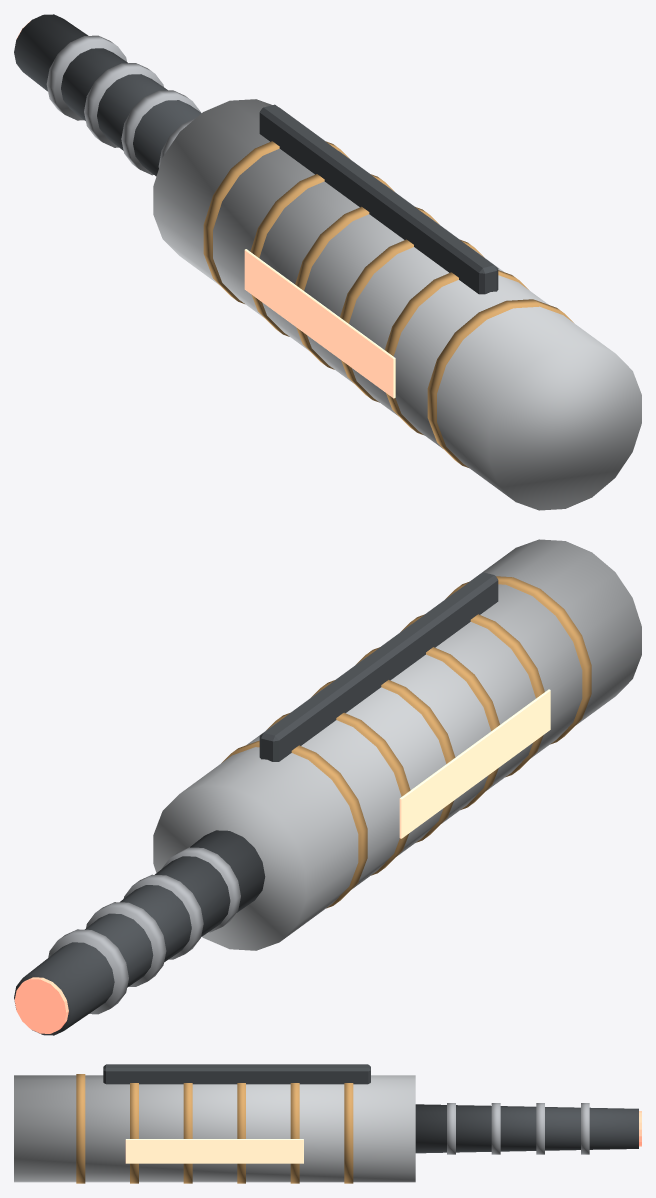
The model's file is jet_laser_cannon.glb.
The picture shows the model from 3 angles, top to bottom: view 1: azimuth 30°, elevation 25°; view 2: azimuth 150°, elevation 25°; view 3: azimuth 270°, elevation 25°; orthographic projection. The views are drawn at different scales.
Visible parts, largest first — view 1: Jet_laser_cannon; view 2: Jet_laser_cannon; view 3: Jet_laser_cannon.
Boxes of the visible parts, x1=… form: Jet_laser_cannon: x1=14, y1=14, x2=641, y2=510; Jet_laser_cannon: x1=14, y1=539, x2=641, y2=1035; Jet_laser_cannon: x1=14, y1=1064, x2=641, y2=1183.
Bounding box in the file's own units: 0.244 × 0.278 × 1.41.
